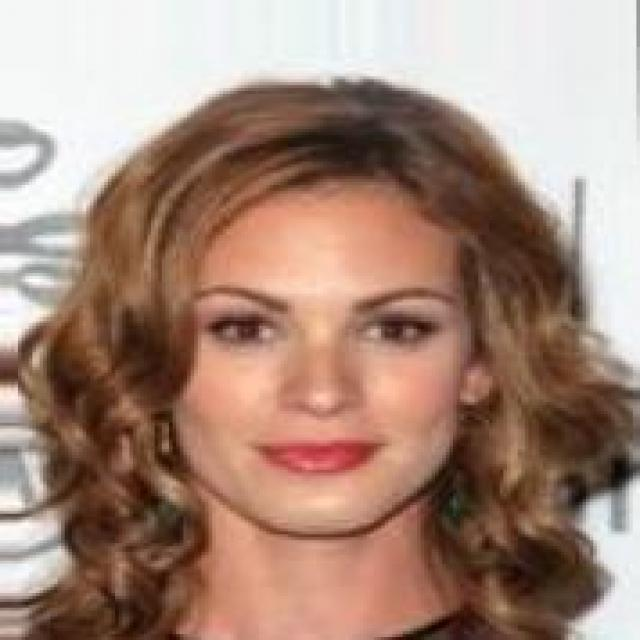nomask: (86, 41, 568, 552)
